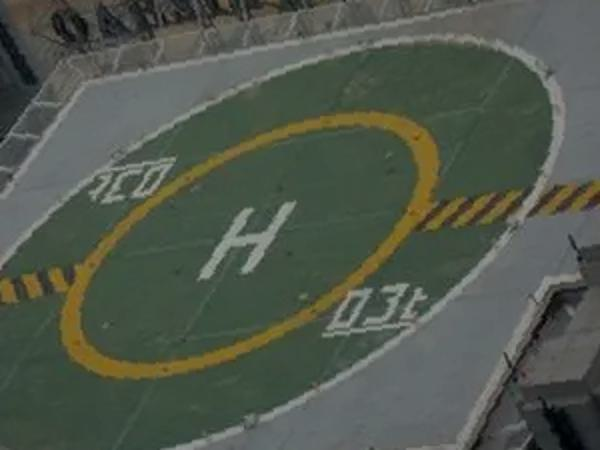Apron: (47, 102, 445, 389)
